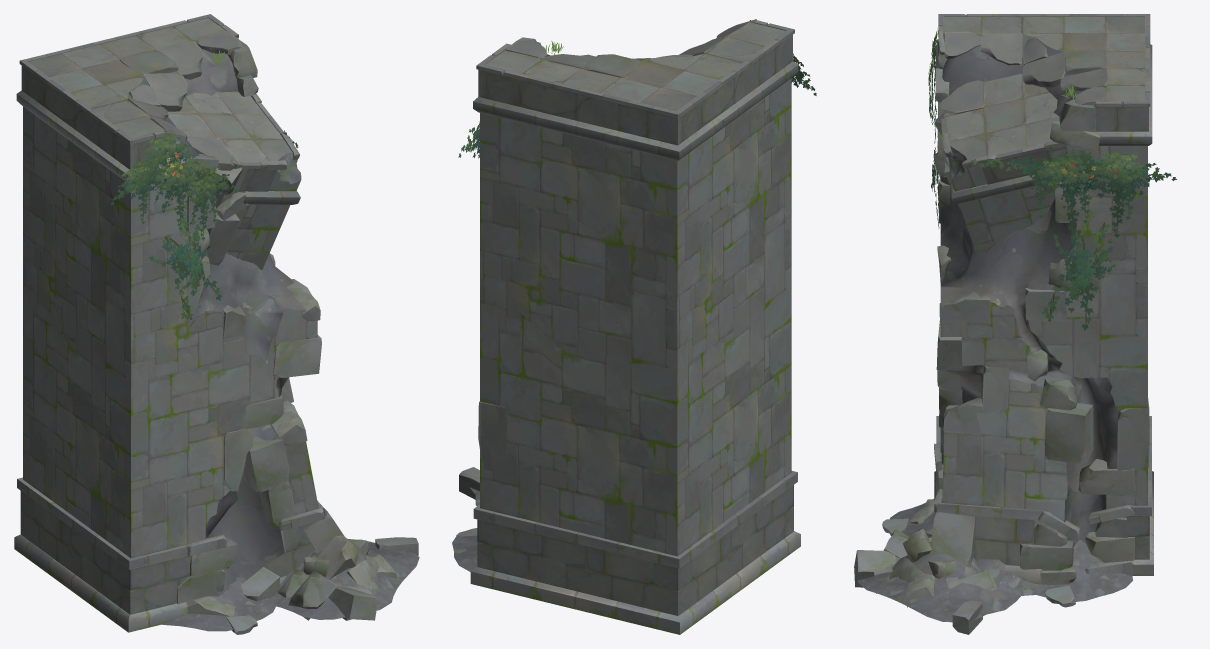
Rendered from Area_MdBuild_SdWall03_11_Group.fbx.
3 views of the same model, side by side, from view 1: azimuth 30°, elevation 25°; view 2: azimuth 150°, elevation 25°; view 3: azimuth 270°, elevation 25° (orthographic). The views are drawn at different scales.
Visible parts, largest first — view 1: Area_MdBuild_SdWall03_11_Lod0, Stages_LYLvy06_Vo (1), Area_MdBuild_SdRuins07_08_Vo, Stages_LYLvy09_Vo (1), Area_MdBuild_SdRuins07_05_Vo; view 2: Area_MdBuild_SdWall03_11_Lod0, Area_MdBuild_SdRuins07_05_Vo.002; view 3: Area_MdBuild_SdWall03_11_Lod0, Stages_LYLvy03_Vo (1), Area_MdBuild_SdRuins07_08_Vo, Stages_LYLvy09_Vo (2), Area_MdBuild_SdRuins07_05_Vo.002, Area_MdBuild_SdRuins07_05_Vo.001, Area_MdBuild_SdRuins07_05_Vo, Stages_LYLvy06_Vo (1).
Part boxes in pixels (x1,y1,x2,y2): Area_MdBuild_SdWall03_11_Lod0: [14, 14, 418, 634]; Stages_LYLvy06_Vo (1): [111, 133, 237, 240]; Area_MdBuild_SdRuins07_08_Vo: [270, 539, 419, 620]; Stages_LYLvy09_Vo (1): [148, 211, 221, 319]; Area_MdBuild_SdRuins07_05_Vo: [162, 577, 275, 631]; Area_MdBuild_SdWall03_11_Lod0: [456, 19, 800, 634]; Area_MdBuild_SdRuins07_05_Vo.002: [452, 536, 477, 571]; Area_MdBuild_SdWall03_11_Lod0: [854, 14, 1153, 634]; Stages_LYLvy03_Vo (1): [971, 150, 1176, 247]; Area_MdBuild_SdRuins07_08_Vo: [858, 537, 1020, 622]; Stages_LYLvy09_Vo (2): [1042, 222, 1115, 330]; Area_MdBuild_SdRuins07_05_Vo.002: [1036, 540, 1132, 602]; Area_MdBuild_SdRuins07_05_Vo.001: [976, 559, 1050, 595]; Area_MdBuild_SdRuins07_05_Vo: [890, 499, 935, 536]; Stages_LYLvy06_Vo (1): [928, 29, 937, 153].
Size of the model in its own units: 14.15 by 20.84 by 13.18.
8 materials, 8 textured.
